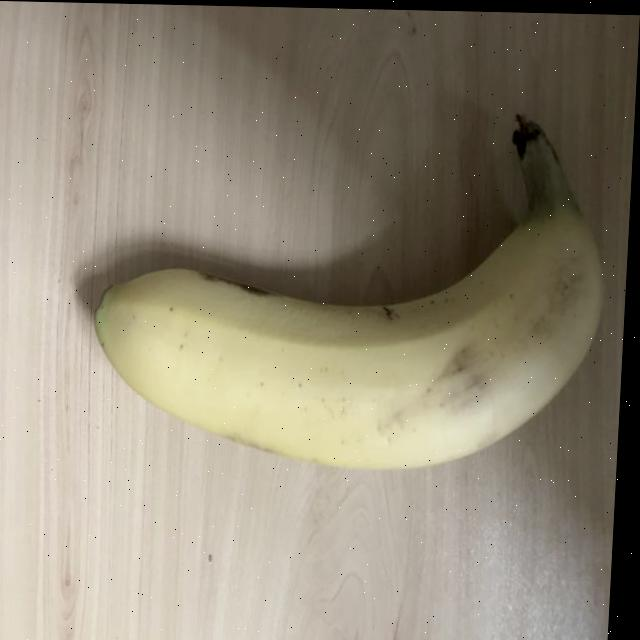banana: (73, 103, 615, 471)
